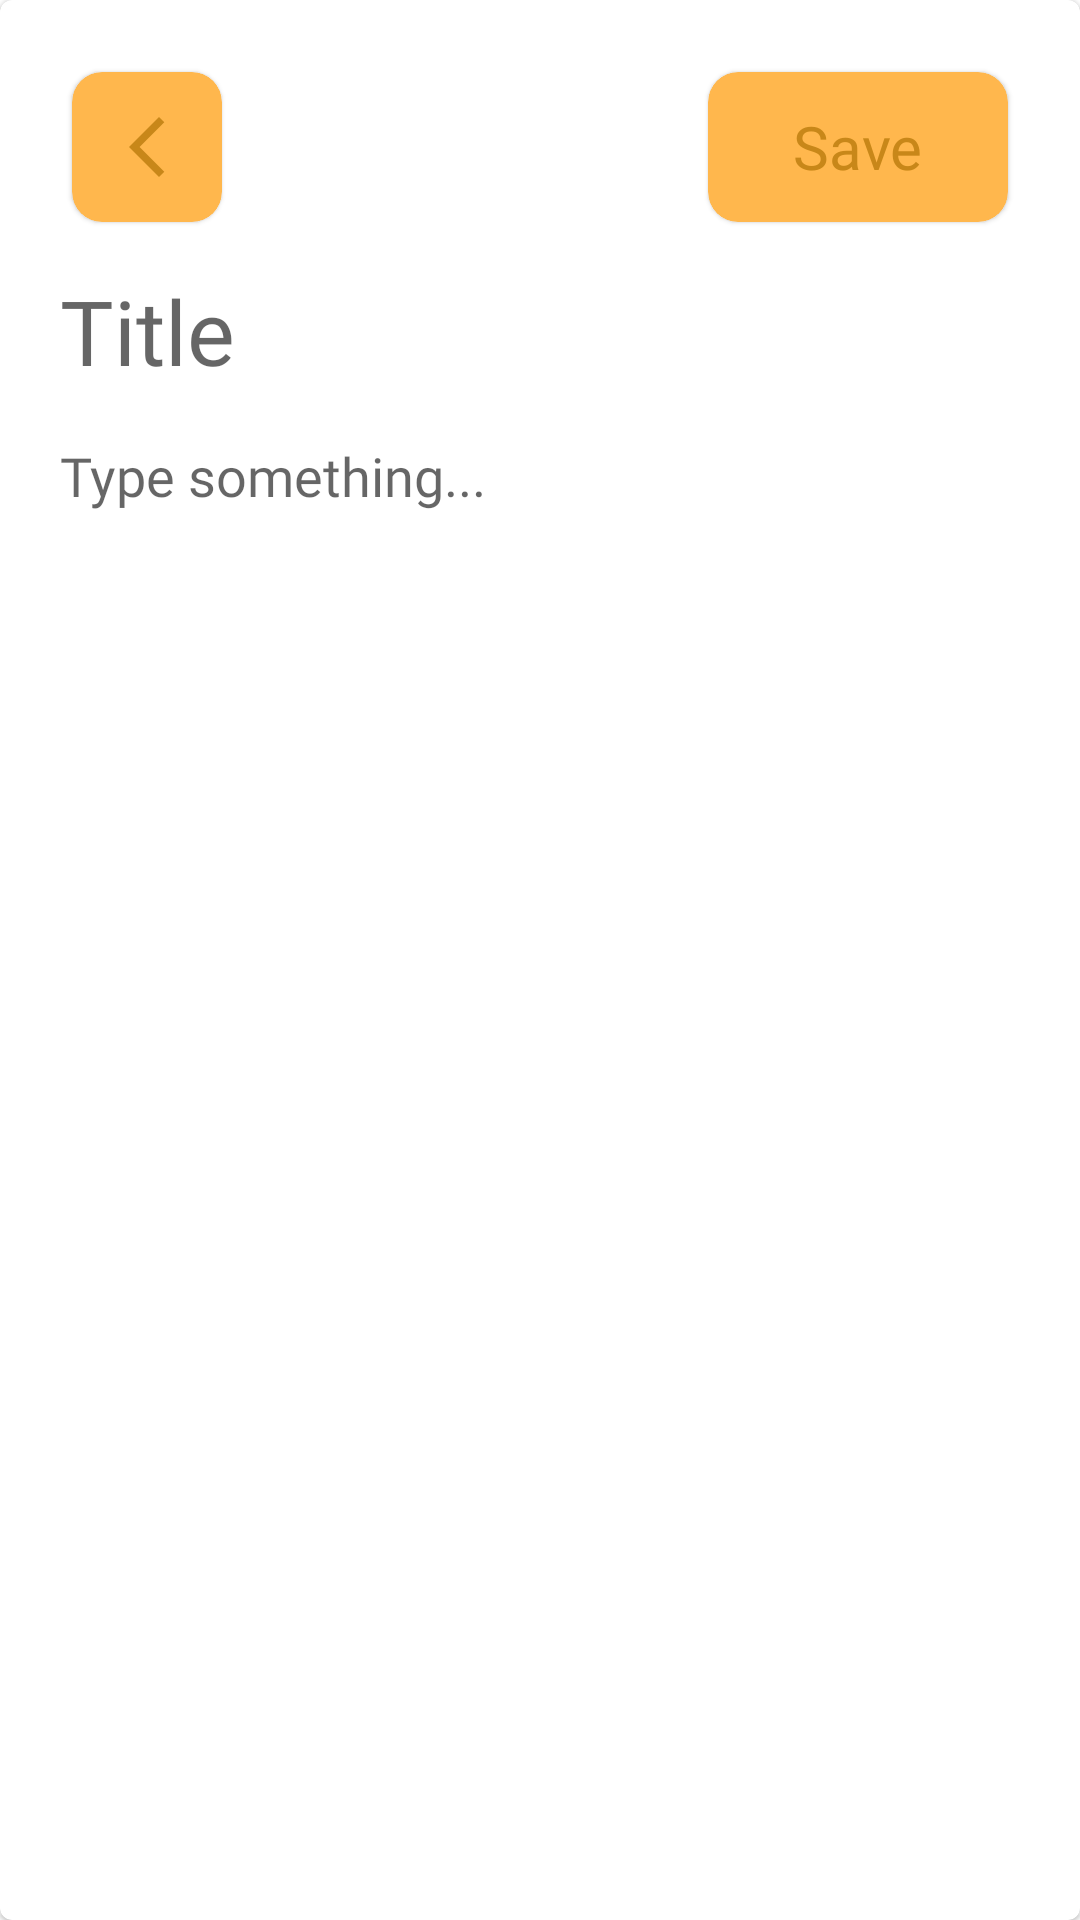

Named icons in this screenshot (1080w x 1920h) and their centers, [x,y]:
arrow back: [146,147]
